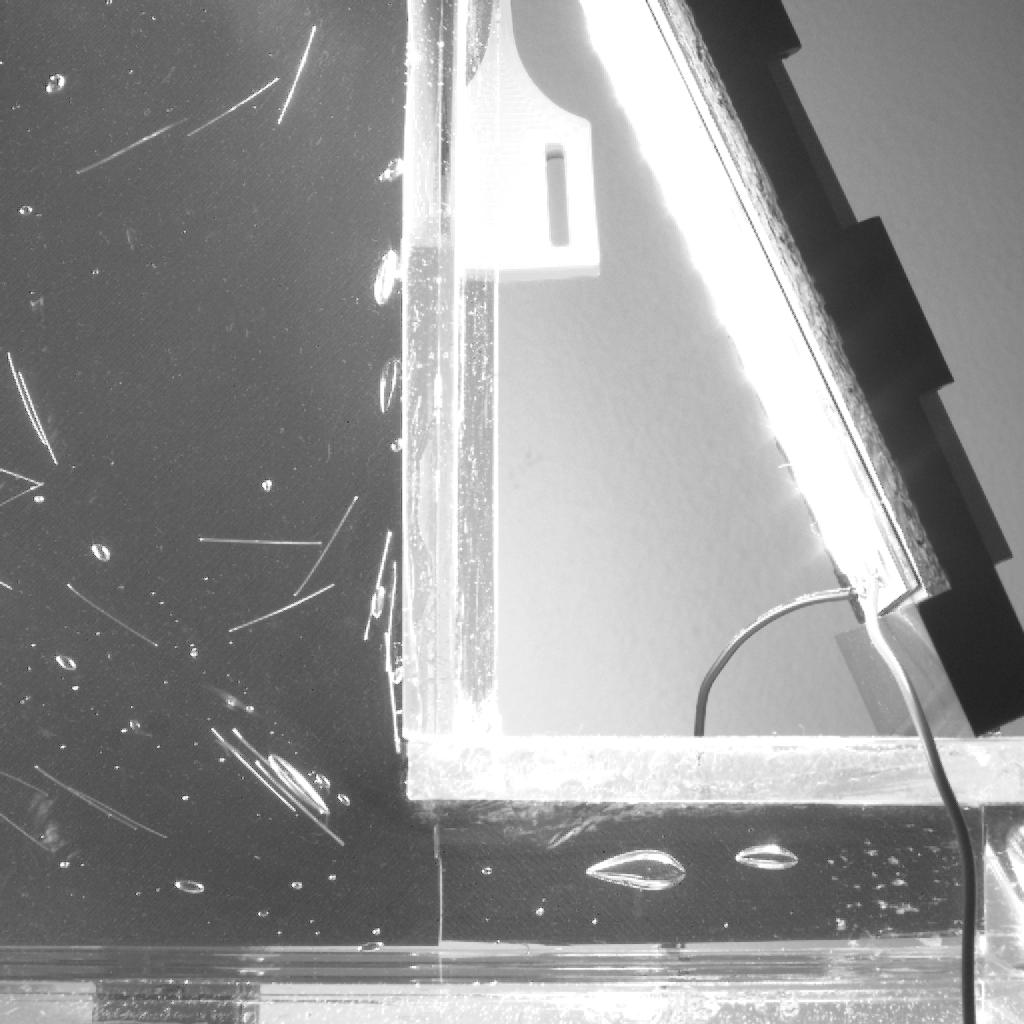Fiber: (228, 722, 337, 819), (251, 753, 350, 850), (72, 107, 196, 182), (204, 725, 300, 817), (181, 70, 286, 149), (289, 492, 365, 601), (27, 763, 140, 833), (59, 580, 160, 654), (225, 580, 342, 636), (63, 785, 173, 841), (270, 20, 320, 137), (13, 370, 64, 467), (3, 351, 50, 452), (360, 526, 398, 648), (380, 628, 404, 758), (0, 810, 58, 862), (193, 532, 323, 549), (0, 764, 55, 802), (381, 561, 399, 674), (1, 479, 50, 513), (0, 578, 51, 610), (0, 461, 47, 492)
